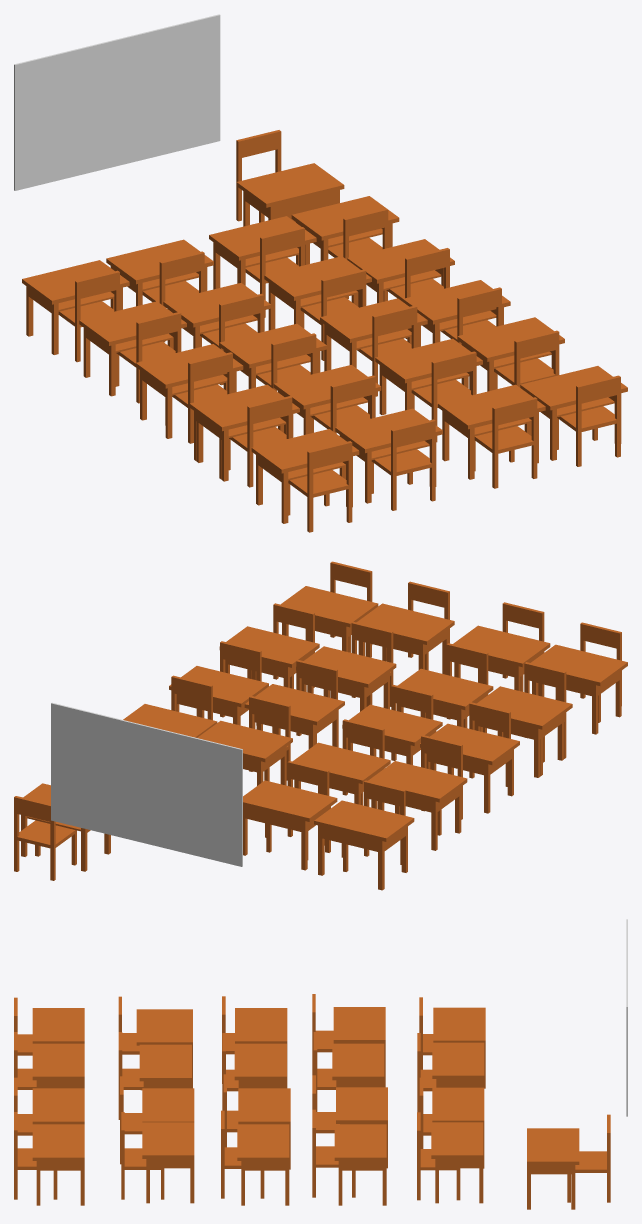
The model's file is classroom.fbx.
3 views of the same model, one above another, from view 1: azimuth 30°, elevation 25°; view 2: azimuth 150°, elevation 25°; view 3: azimuth 270°, elevation 25° (orthographic). The views are drawn at different scales.
Visible parts, largest first — view 1: Cube.002, Cube.046, Cube.007, Cube.026, Cube.003, Cube, Cube.004, Cube.027, Cube.029, Cube.030, Cube.006, Cube.028 (+32 smaller); view 2: Cube.002, Cube, Cube.023, Cube.003, Cube.007, Cube.026, Cube.004, Cube.027, Cube.013, Cube.028, Cube.037, Cube.021 (+28 smaller); view 3: Cube.040, Cube.037, Cube.046, Cube.039, Cube.041, Cube.038, Cube.020, Cube.013, Cube.023, Cube.021, Cube.019, Cube.029 (+30 smaller).
Part boxes in pixels (<box>): Cube.002: <box>14,14,220,190</box>; Cube.046: <box>236,163,344,226</box>; Cube.007: <box>251,429,359,523</box>; Cube.026: <box>438,384,545,479</box>; Cube.003: <box>79,301,186,396</box>; Cube: <box>22,260,129,354</box>; Cube.004: <box>135,344,243,438</box>; Cube.027: <box>375,338,482,415</box>; Cube.029: <box>264,256,371,330</box>; Cube.030: <box>209,216,316,289</box>; Cube.006: <box>192,387,299,481</box>; Cube.028: <box>320,298,427,371</box>; Cube.002: <box>51,702,242,866</box>; Cube: <box>314,800,414,890</box>; Cube.023: <box>243,780,337,870</box>; Cube.003: <box>368,761,467,850</box>; Cube.007: <box>531,644,627,734</box>; Cube.026: <box>356,603,454,674</box>; Cube.004: <box>420,723,519,813</box>; Cube.027: <box>296,646,396,711</box>; Cube.013: <box>453,625,550,696</box>; Cube.028: <box>244,684,344,748</box>; Cube.037: <box>280,586,378,657</box>; Cube.021: <box>292,742,390,810</box>; Cube.040: <box>334,1124,386,1205</box>; Cube.037: <box>32,1124,84,1205</box>; Cube.046: <box>527,1128,579,1209</box>; Cube.039: <box>237,1124,289,1205</box>; Cube.041: <box>431,1122,483,1203</box>; Cube.038: <box>142,1122,194,1203</box>; Cube.020: <box>234,1043,286,1088</box>; Cube.013: <box>32,1043,84,1088</box>; Cube.023: <box>432,1042,484,1087</box>; Cube.021: <box>332,1043,384,1087</box>; Cube.019: <box>139,1044,191,1088</box>; Cube.029: <box>336,1087,387,1168</box>.
Size of the model in its own units: 1614 by 899 by 2841.
